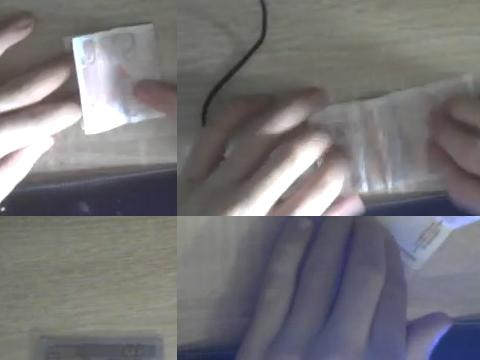5leva: (314, 74, 473, 203), (66, 22, 165, 134)
